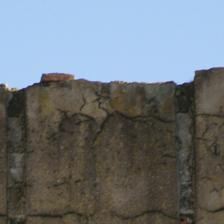Crack: (18, 57, 130, 166), (42, 0, 133, 105), (81, 57, 152, 85), (44, 0, 60, 68)
